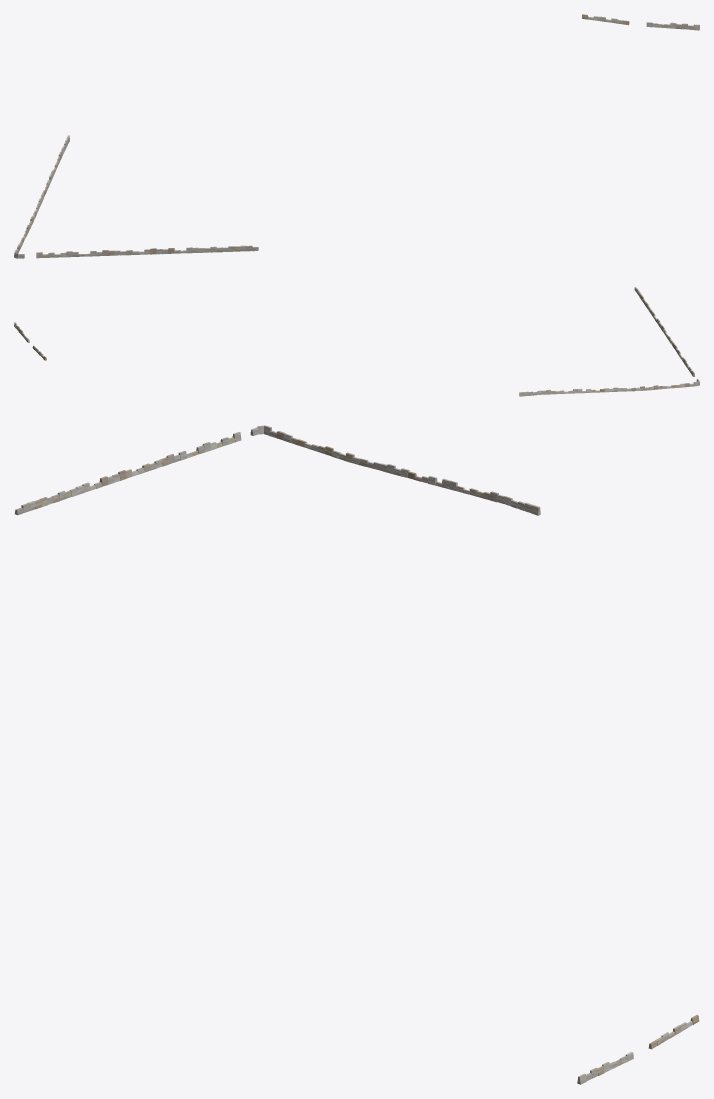
The model's file is farm_-11_8_mid.glb.
3 views of the same model, one above another, from view 1: azimuth 30°, elevation 25°; view 2: azimuth 150°, elevation 25°; view 3: azimuth 270°, elevation 25° (orthographic). The views are drawn at different scales.
Parts seen in each view (by area): view 1: geometry_0; view 2: geometry_0; view 3: geometry_0.
Boxes of the visible parts, bbox=[...] form: geometry_0: bbox=[14, 14, 699, 258]; geometry_0: bbox=[14, 287, 699, 396]; geometry_0: bbox=[14, 425, 699, 1084].
Bounding box in the file's own units: 238 × 20.23 × 116.
